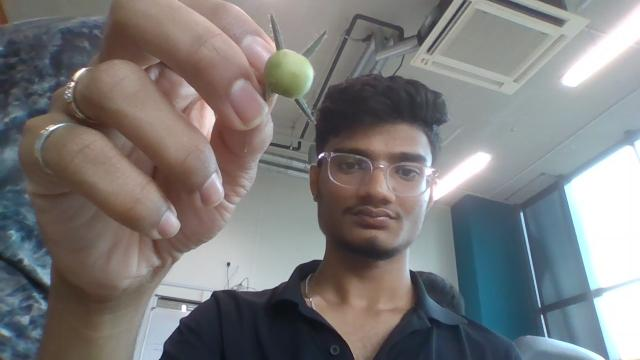Fruit Maturation: (262, 48, 315, 101)
